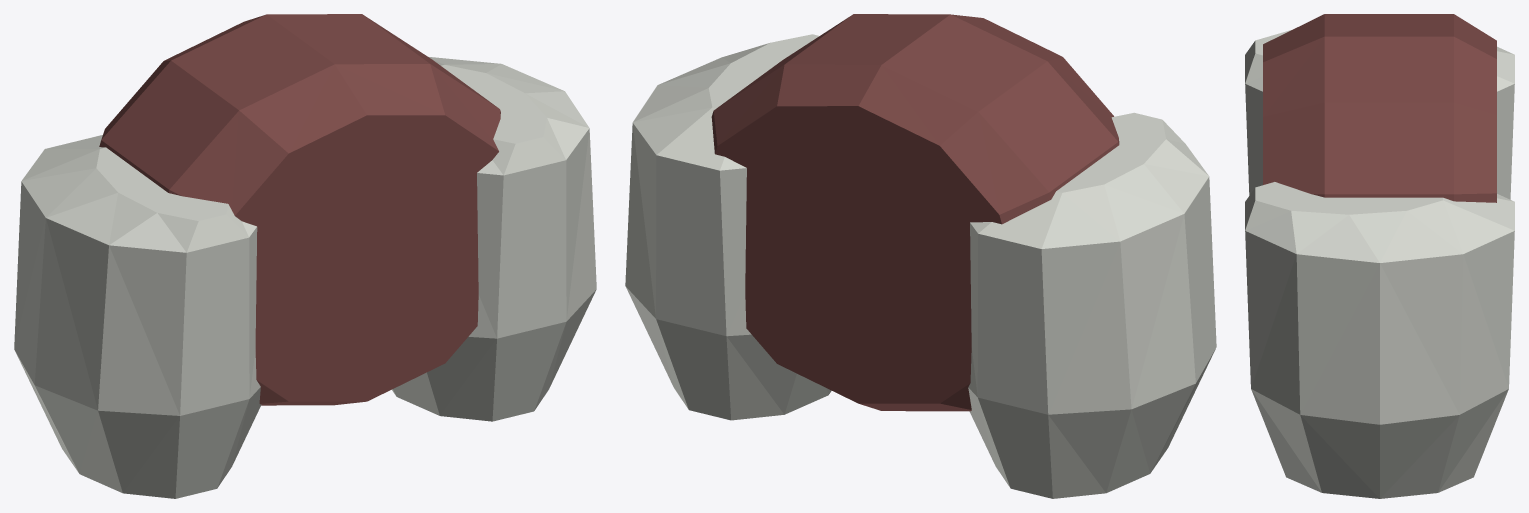
File: warqueen_segment_5.obj
3 renders of one model, left to right at view 1: azimuth 30°, elevation 25°; view 2: azimuth 150°, elevation 25°; view 3: azimuth 270°, elevation 25°, orthographic. The views are drawn at different scales.
Visible parts, largest first — view 1: warqueen_segment_5; view 2: warqueen_segment_5; view 3: warqueen_segment_5.
Boxes of the visible parts, x1,y1,x2,y2 form: warqueen_segment_5: (14,14,596,498); warqueen_segment_5: (625,14,1216,498); warqueen_segment_5: (1245,14,1514,498).
Size of the model in its own units: 0.9644 by 0.64 by 0.4375.
